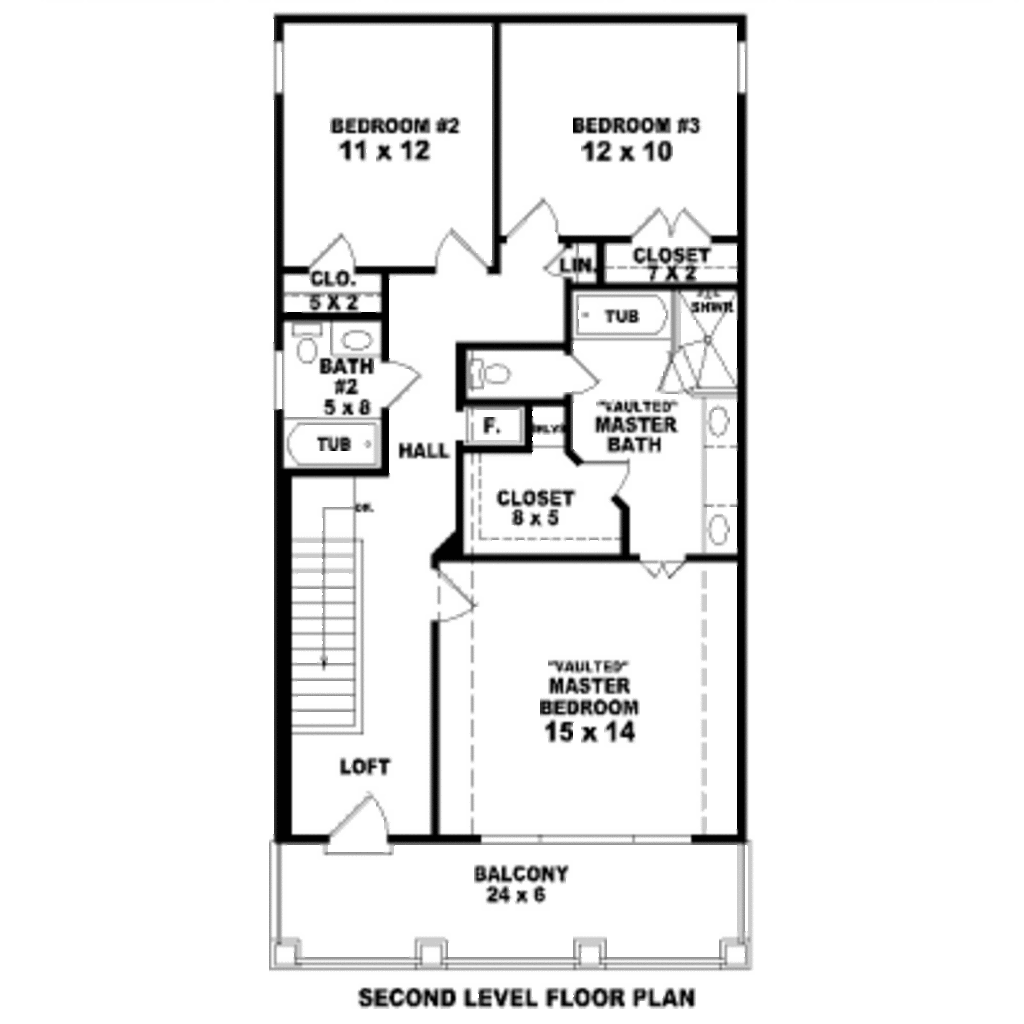door: (626, 206, 715, 243), (431, 228, 490, 280), (329, 795, 387, 845), (434, 568, 481, 628), (302, 226, 356, 271), (506, 200, 563, 242), (376, 361, 423, 411), (583, 457, 634, 503), (567, 348, 603, 401)
large_sink: (464, 350, 518, 394), (287, 318, 325, 370)
small_sink: (690, 500, 739, 560), (327, 322, 389, 360), (697, 396, 738, 451)
stairs: (286, 529, 361, 741)
tub: (283, 417, 388, 470), (572, 289, 670, 339)
windows: (265, 30, 290, 95), (730, 33, 751, 97)
